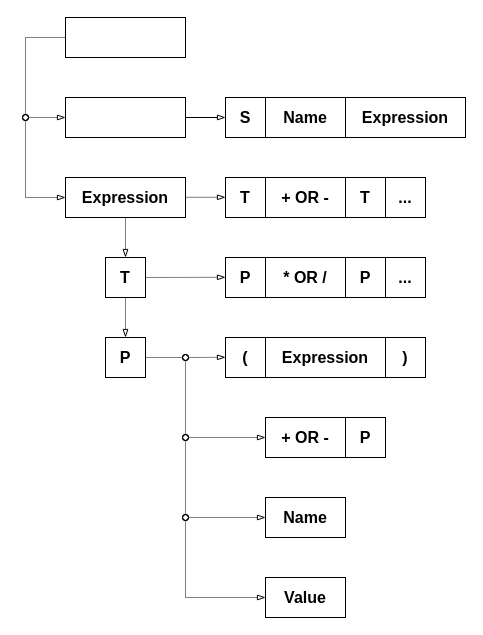
The diagram is 483 pixels wide and 635 high, and some of its shapes have lost their labels. The shapes that lost their labels are listed below. From the top down, each one's centre as x and y in pixels, then its label:
At point (125, 37): "Statement".
At point (125, 117): "Declaration".
